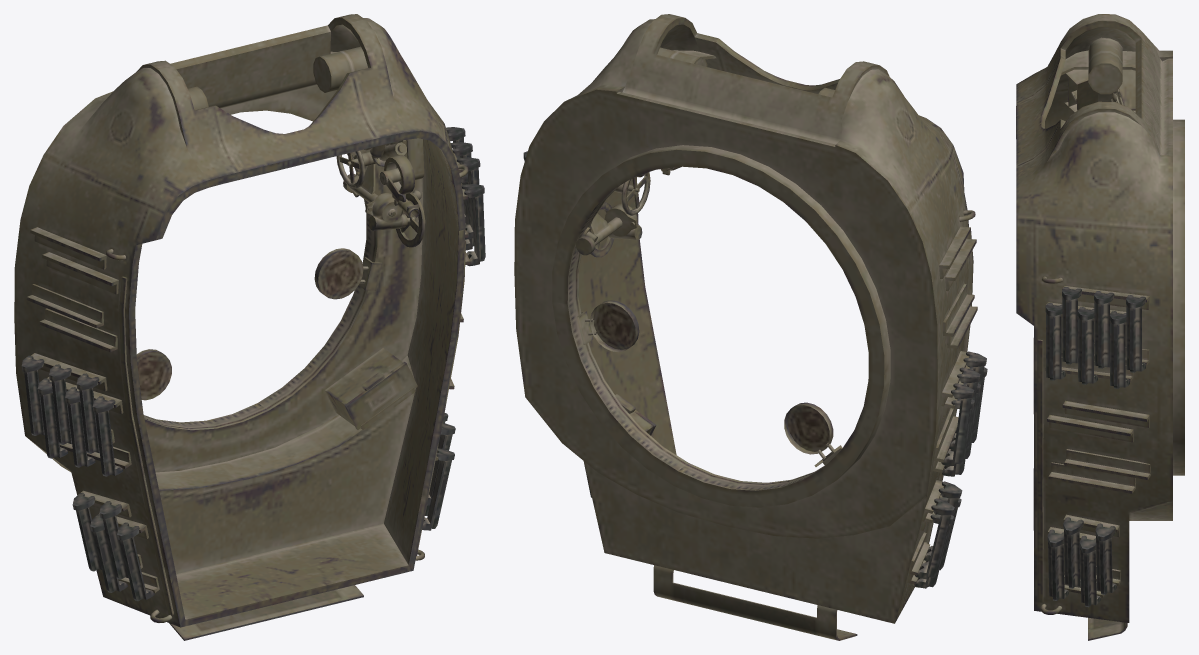
Rendered from Turret_02.glb.
3 renders of one model, left to right at view 1: azimuth 30°, elevation 25°; view 2: azimuth 150°, elevation 25°; view 3: azimuth 270°, elevation 25°, orthographic. The views are drawn at different scales.
Visible parts, largest first — view 1: set_0_group_0; view 2: set_0_group_0; view 3: set_0_group_0.
Part boxes in pixels (x1,y1,x2,y2): set_0_group_0: [14, 14, 485, 640]; set_0_group_0: [514, 14, 987, 640]; set_0_group_0: [1016, 14, 1184, 640].
Size of the model in its own units: 1.8 by 2.22 by 0.6324.
1 material, 1 textured.
